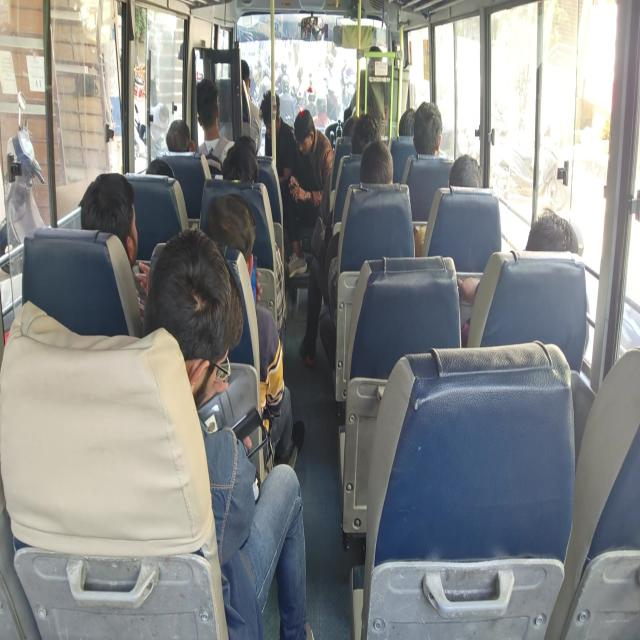person: (161, 241, 255, 355), (88, 174, 142, 243), (204, 203, 263, 258), (530, 213, 586, 262), (413, 98, 445, 166), (363, 146, 398, 195), (348, 102, 388, 144), (454, 152, 488, 201), (195, 78, 225, 130), (166, 115, 194, 156), (233, 47, 256, 92), (297, 102, 318, 150), (150, 144, 173, 186), (400, 103, 420, 138), (263, 89, 283, 119)
